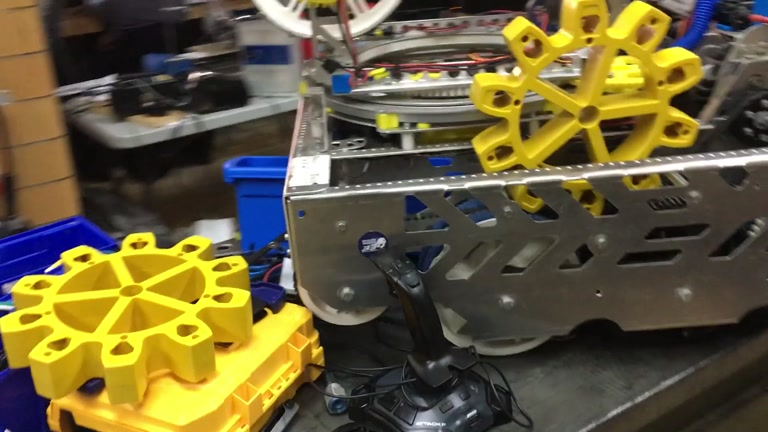gear: (472, 1, 703, 224), (1, 229, 255, 405)
